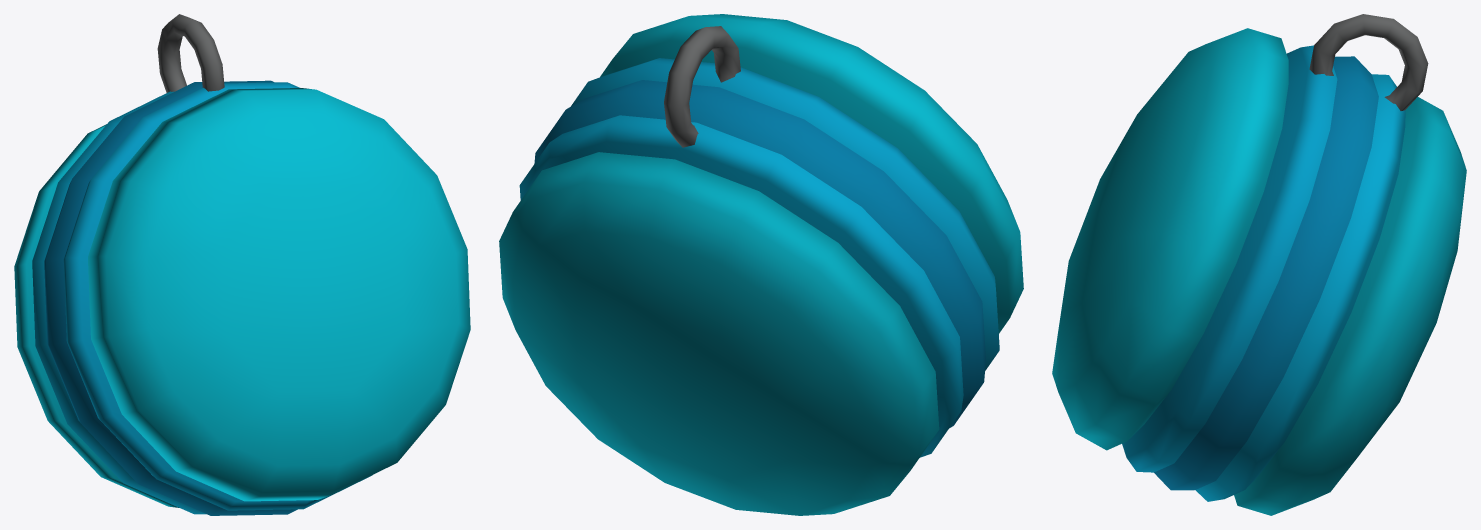
File: Charm_20.fbx
3 views of the same model, side by side, from view 1: azimuth 30°, elevation 25°; view 2: azimuth 150°, elevation 25°; view 3: azimuth 270°, elevation 25° (orthographic). The views are drawn at different scales.
Parts seen in each view (by area): view 1: Charm_20; view 2: Charm_20; view 3: Charm_20.
Part boxes in pixels (<box>): Charm_20: <box>14,14,470,515</box>; Charm_20: <box>499,14,1023,515</box>; Charm_20: <box>1052,14,1466,515</box>.
Bounding box in the file's own units: 4.95 × 5.56 × 4.35.
